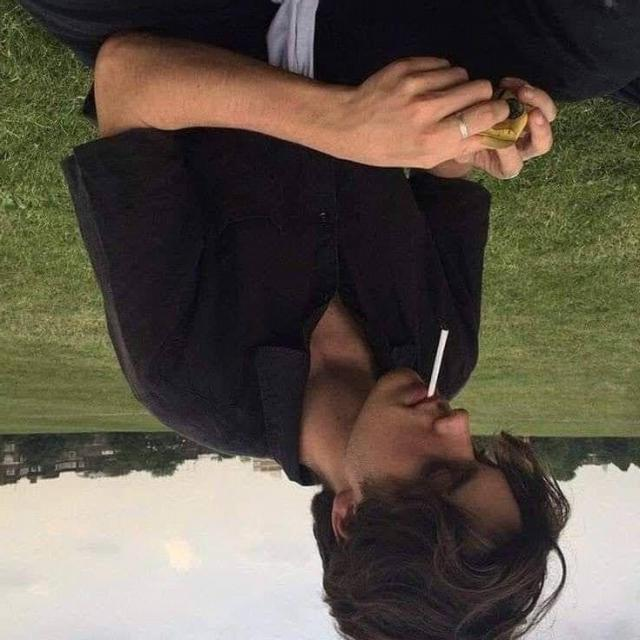cigarette: (426, 320, 451, 407)
